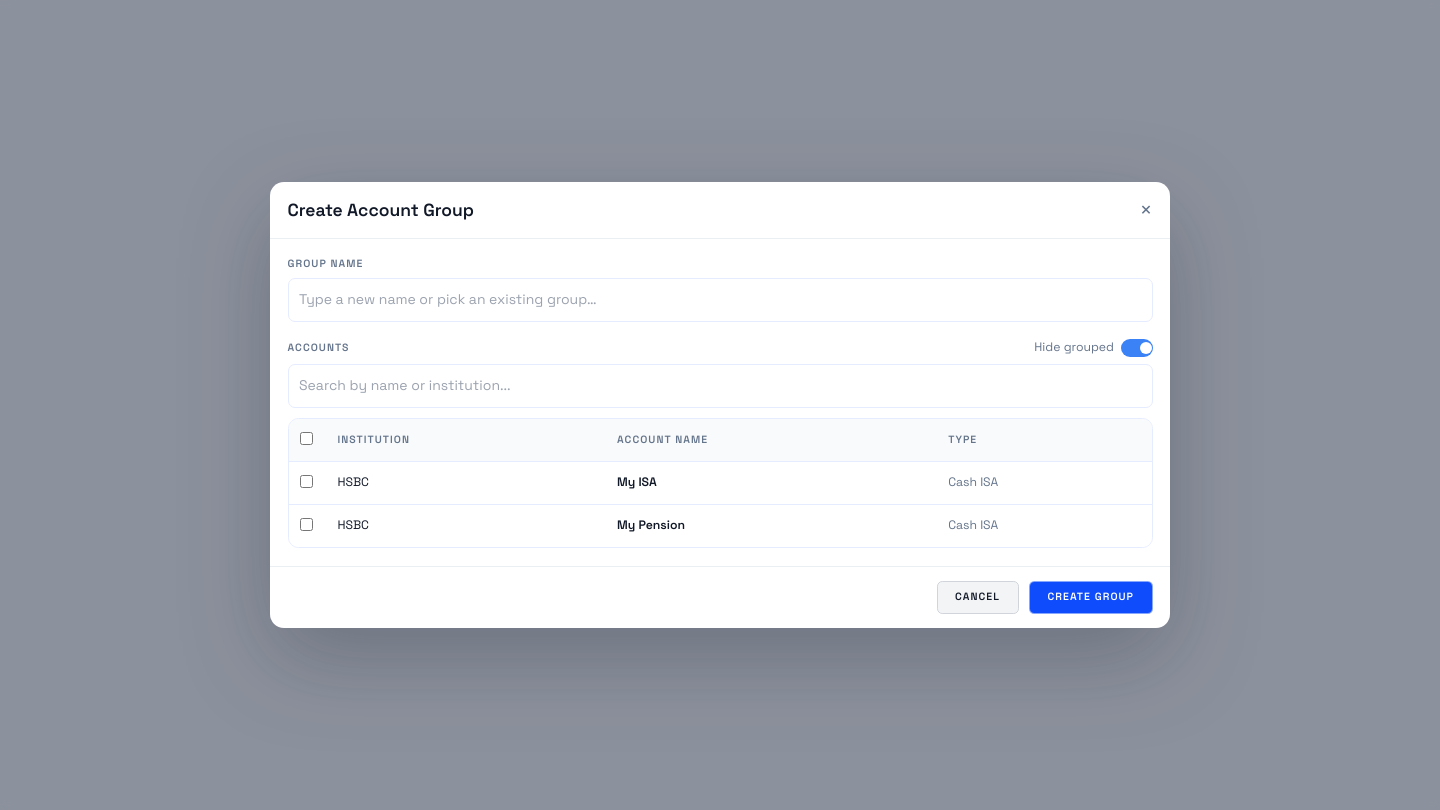
Test: AccountGroupModal › toggleAccount: selects account on row click
The image size is (1440, 810).
Click the row with class "cursor-pointer" showing "HSBC My ISA Cash ISA".
click(720, 483)  # box [288,462,1152,504]
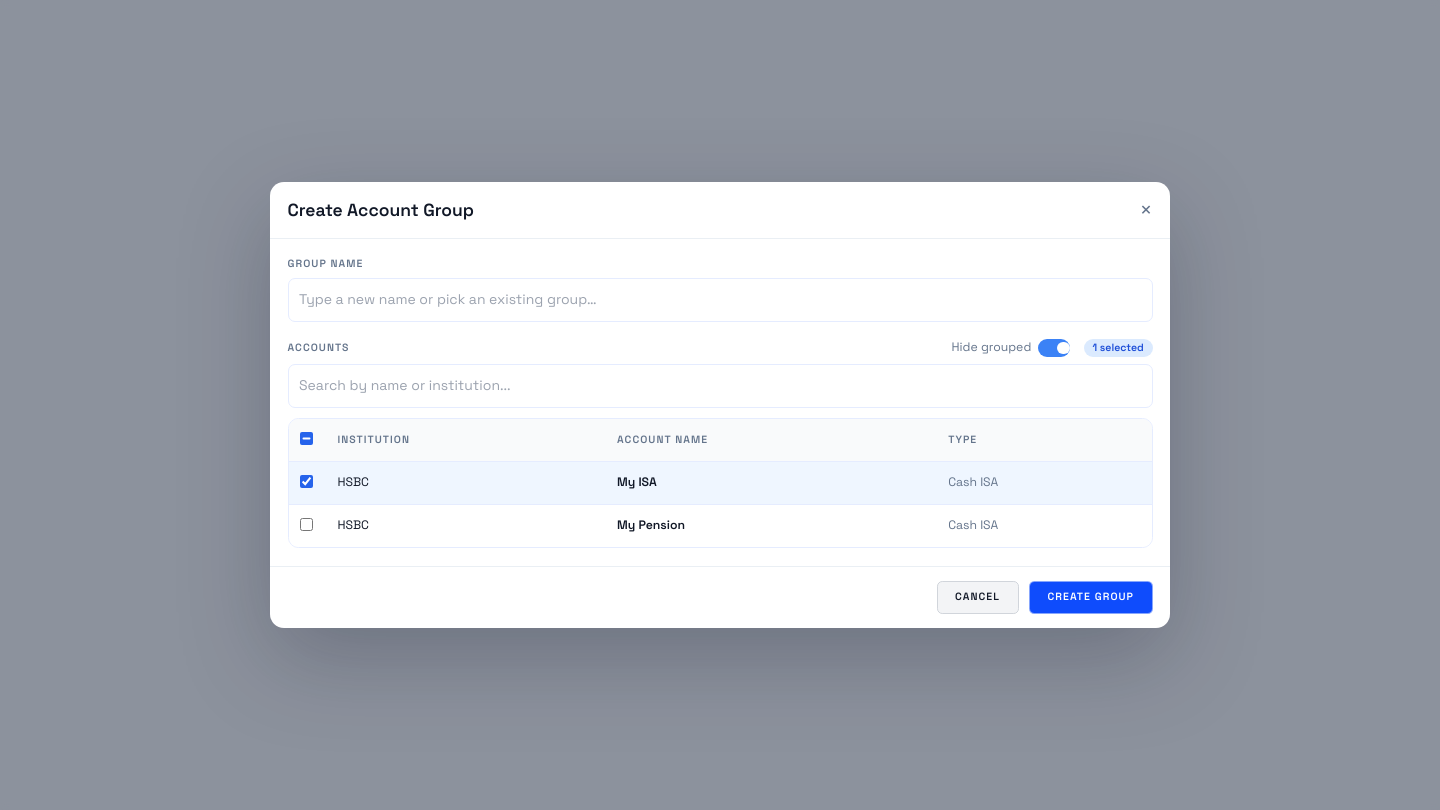
Check: the text "selected" is shown, box [1092,341,1144,354]
